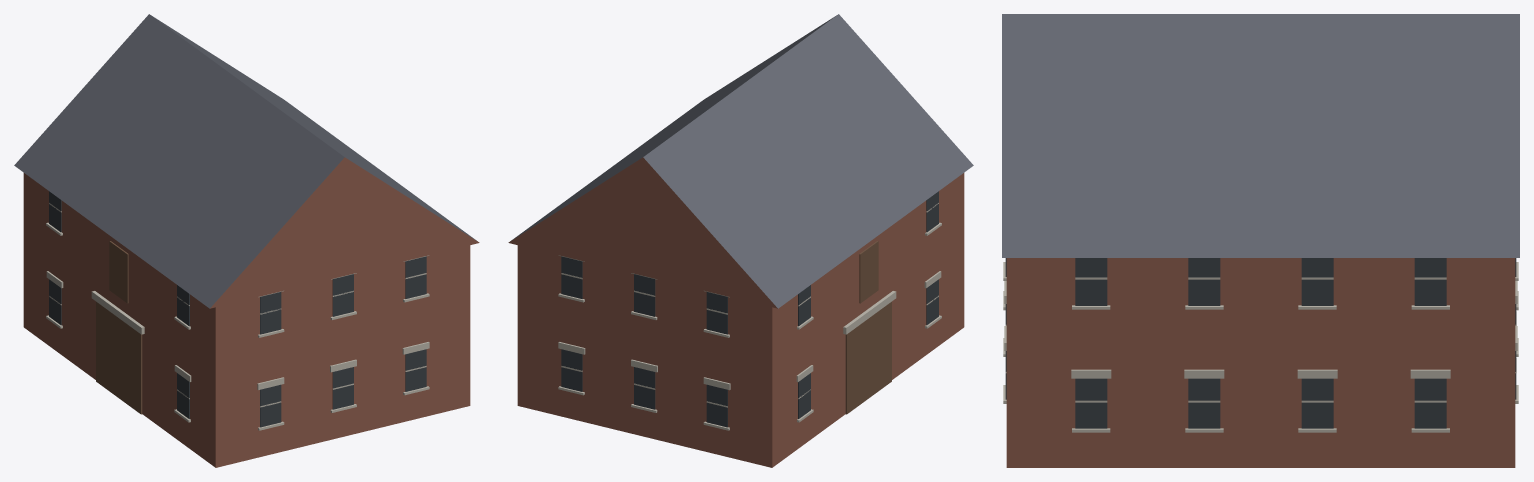
Rendered from house_2027_prairie_coach_house__draft_1904.glb.
3 renders of one model, left to right at view 1: azimuth 30°, elevation 25°; view 2: azimuth 150°, elevation 25°; view 3: azimuth 270°, elevation 25°, orthographic. The views are drawn at different scales.
Visible parts, largest first — view 1: house_2027_prairie_coach_house__draft_1904; view 2: house_2027_prairie_coach_house__draft_1904; view 3: house_2027_prairie_coach_house__draft_1904.
Boxes of the visible parts, x1=… form: house_2027_prairie_coach_house__draft_1904: x1=14, y1=14, x2=479, y2=467; house_2027_prairie_coach_house__draft_1904: x1=508, y1=14, x2=973, y2=467; house_2027_prairie_coach_house__draft_1904: x1=1002, y1=14, x2=1519, y2=467.
Size of the model in its own units: 10.35 by 10.29 by 12.99.
